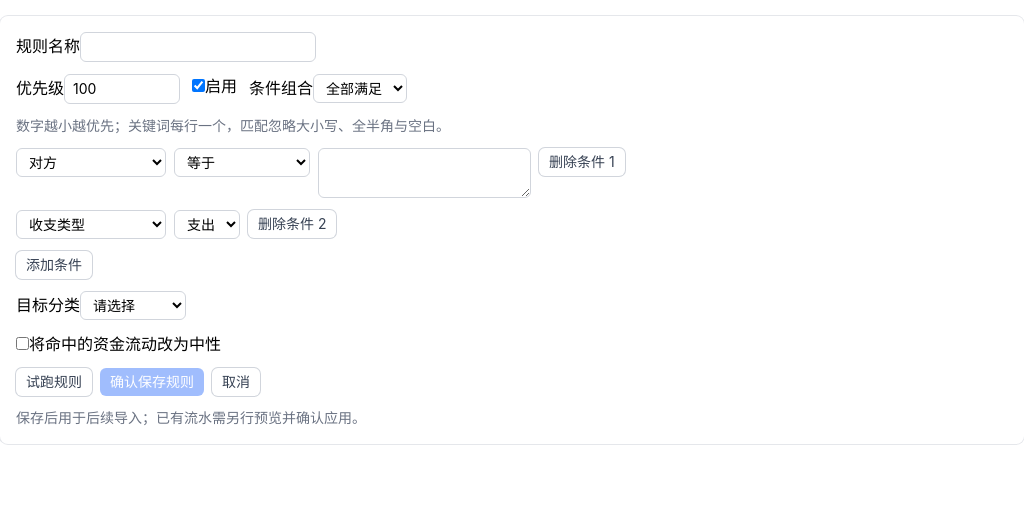
Test: 规则编辑器 › 空关键词、越界优先级和缺分类不会发请求
This screenshot has width=1024, height=514.
Click the button "试跑规则": (54, 382) [16,368,92,396]
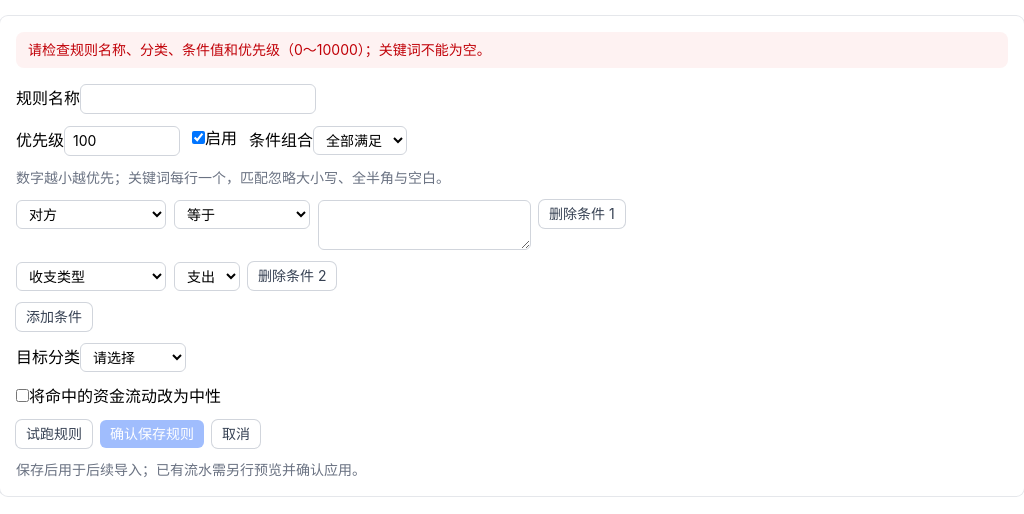
Expected: the message shows "关键词不能为空", [28,41,491,58]
